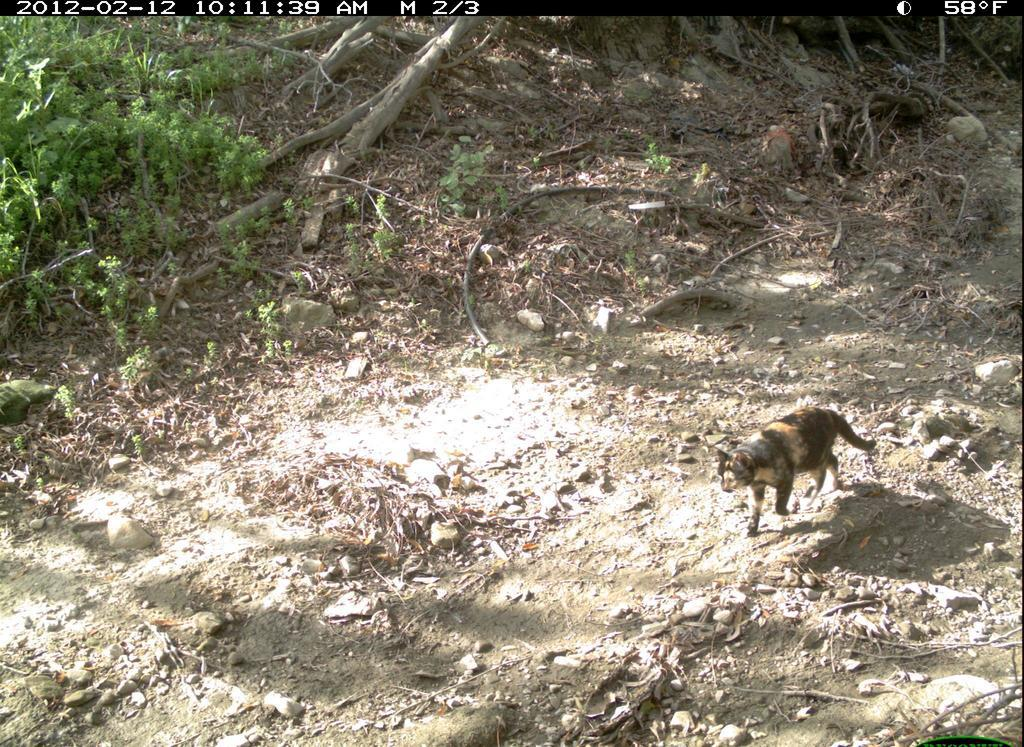cat: (711, 404, 882, 543)
